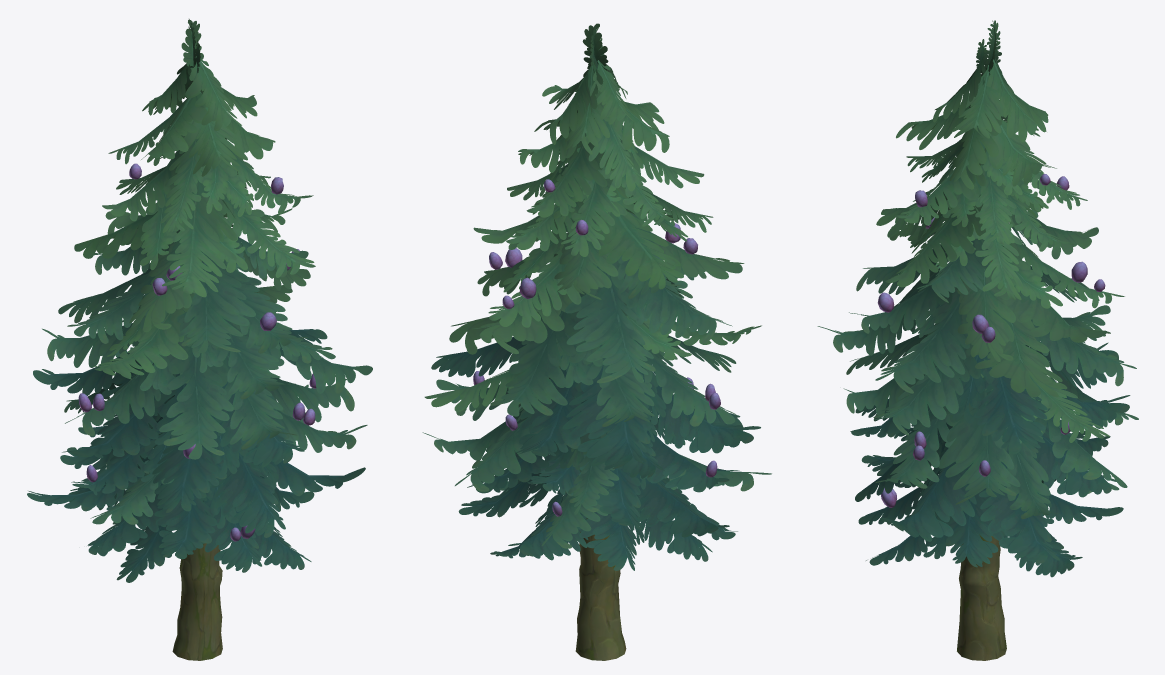
File: m_env_collect_tree_cedar_03.fbx
The picture shows the model from 3 angles, left to right: view 1: azimuth 30°, elevation 25°; view 2: azimuth 150°, elevation 25°; view 3: azimuth 270°, elevation 25°; orthographic projection.
Parts seen in each view (by area): view 1: m_env_collect_tree_cedar_03; view 2: m_env_collect_tree_cedar_03; view 3: m_env_collect_tree_cedar_03.
Part boxes in pixels (box(x1,y1,x2,y2)): m_env_collect_tree_cedar_03: box(27, 19, 372, 660); m_env_collect_tree_cedar_03: box(422, 23, 771, 660); m_env_collect_tree_cedar_03: box(817, 20, 1138, 660).
Size of what is drawn, in the model's own units: 423 by 774 by 374.
